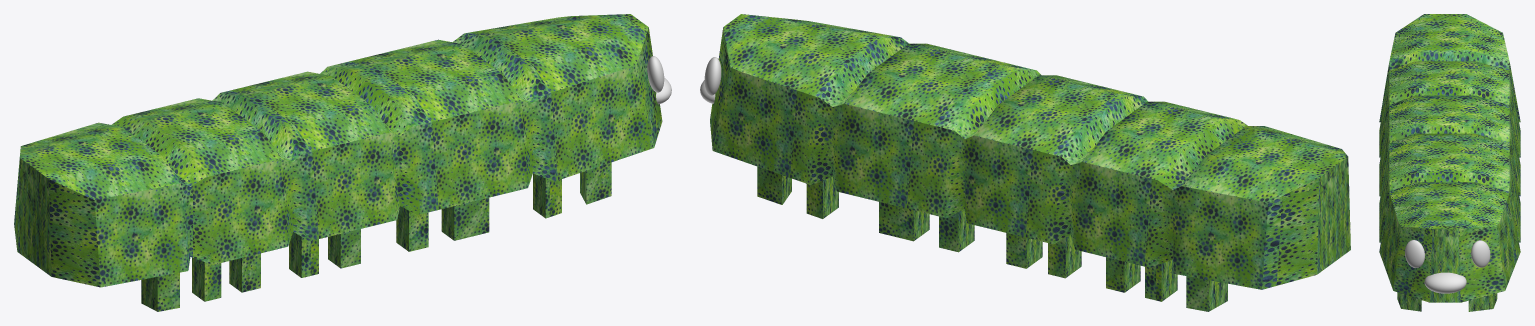
File: Caterpillar.fbx
The picture shows the model from 3 angles, left to right: view 1: azimuth 30°, elevation 25°; view 2: azimuth 150°, elevation 25°; view 3: azimuth 270°, elevation 25°; orthographic projection. The views are drawn at different scales.
Visible parts, largest first — view 1: Box001, Sphere003; view 2: Box001, Sphere002; view 3: Box001, Sphere001, Sphere003, Sphere002.
Part boxes in pixels (x1,y1,x2,y2): Box001: [14, 14, 662, 311]; Sphere003: [647, 56, 664, 92]; Box001: [710, 14, 1350, 311]; Sphere002: [704, 57, 721, 95]; Box001: [1379, 14, 1520, 311]; Sphere001: [1424, 272, 1466, 293]; Sphere003: [1405, 240, 1424, 267]; Sphere002: [1471, 240, 1490, 267].
Size of the model in its own units: 77.29 by 16.18 by 20.56.
